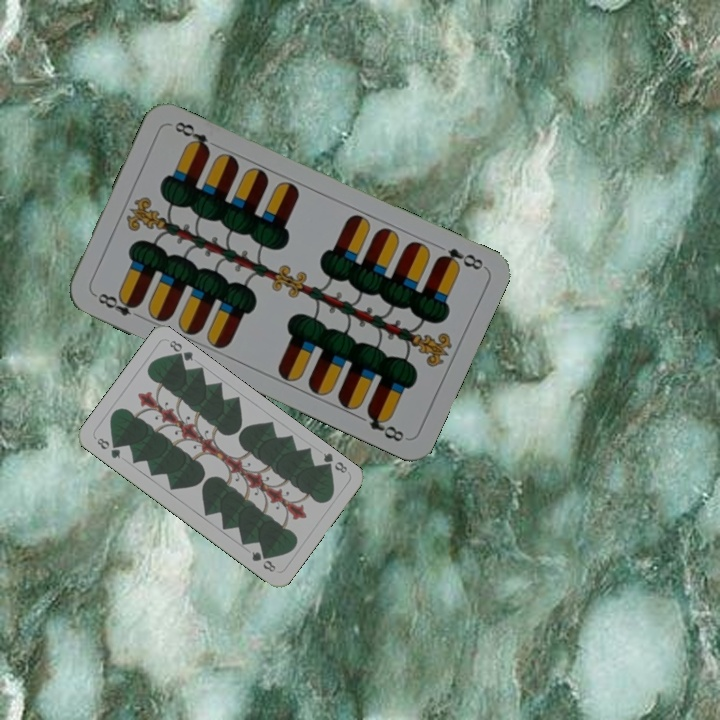E8: (90, 289, 145, 322), (433, 244, 486, 273)
G8: (318, 449, 350, 476), (93, 434, 123, 461)
